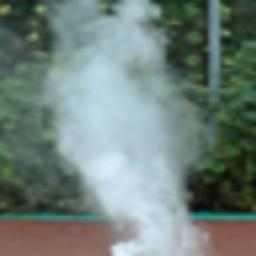smoke: (42, 0, 209, 255)
